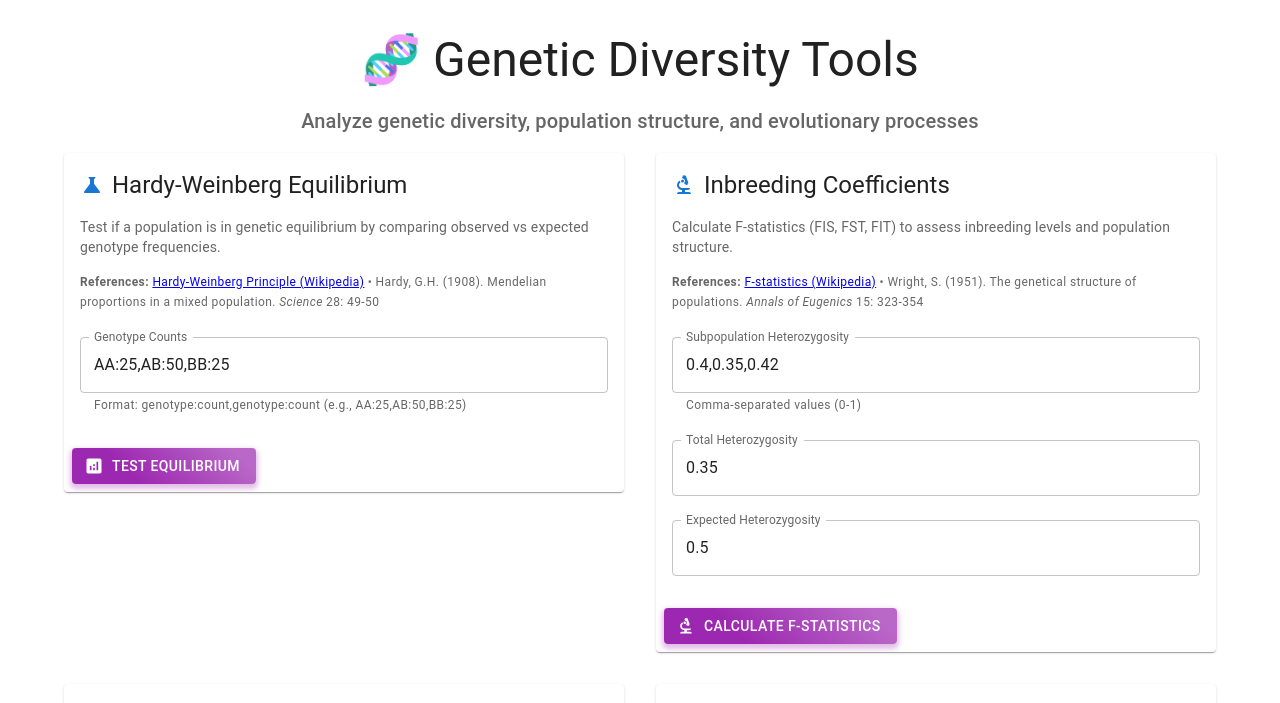
GeneticTools Component › input validation disables buttons when fields are empty
The image size is (1280, 703).
Note: Clear input
Step 1. Clear the field showing "AA:25,AB:50,BB:25" → (344, 365), box [80,337,608,393]
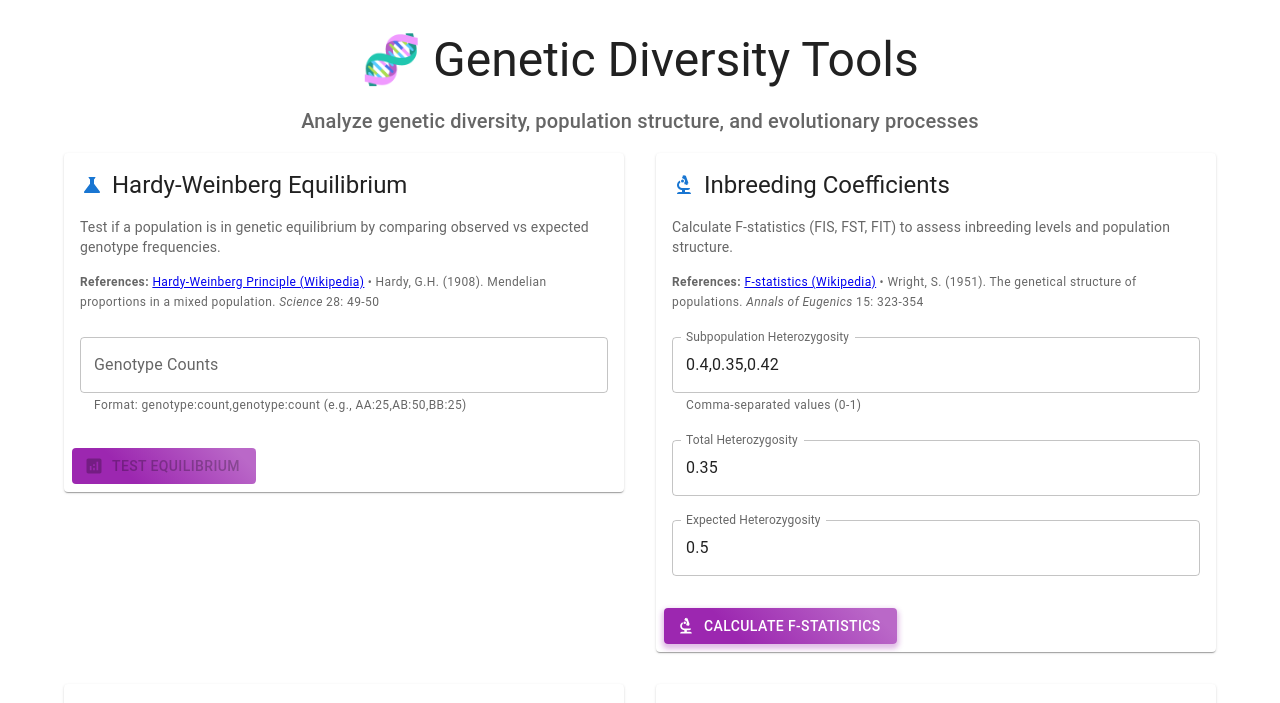
Result: the button "Test Equilibrium" is disabled at [72,448,256,484]
Note: Restore input
Step 2. Type "AA:10,AB:20,BB:10" into the field showing "AA:25,AB:50,BB:25" → (344, 365), box [80,337,608,393]
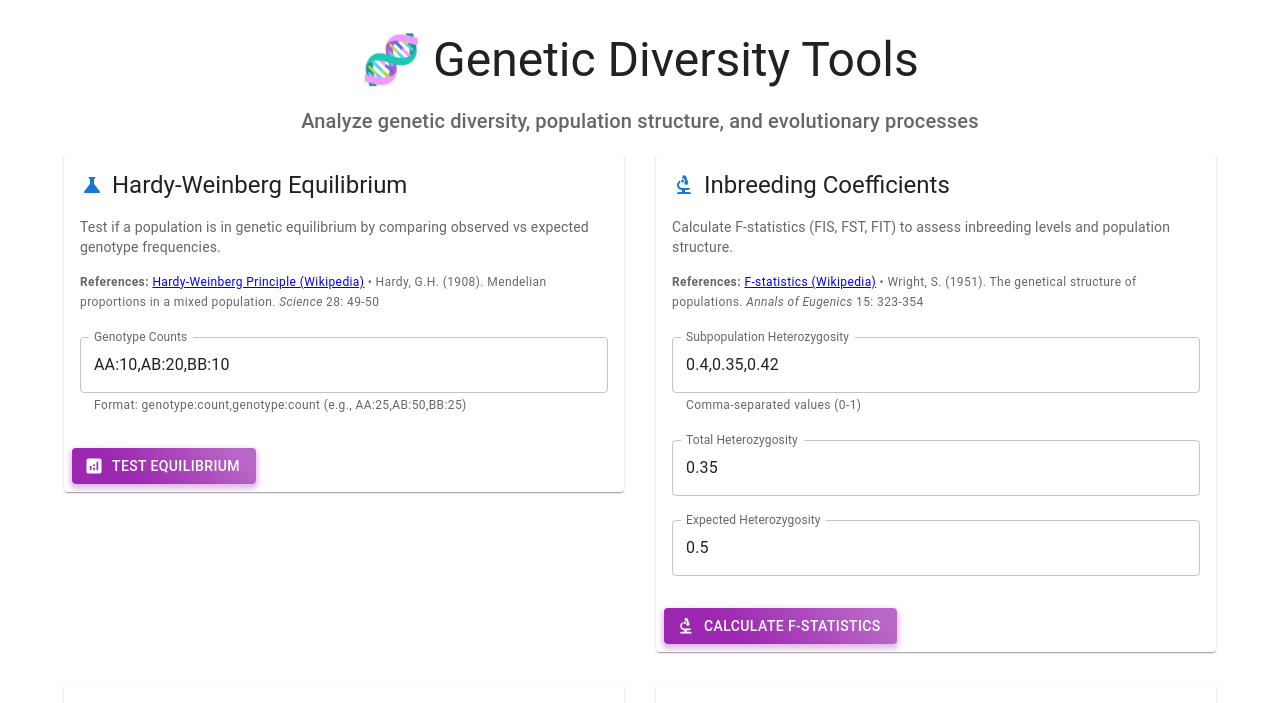
Result: the button "Test Equilibrium" is enabled at [72,448,256,484]
